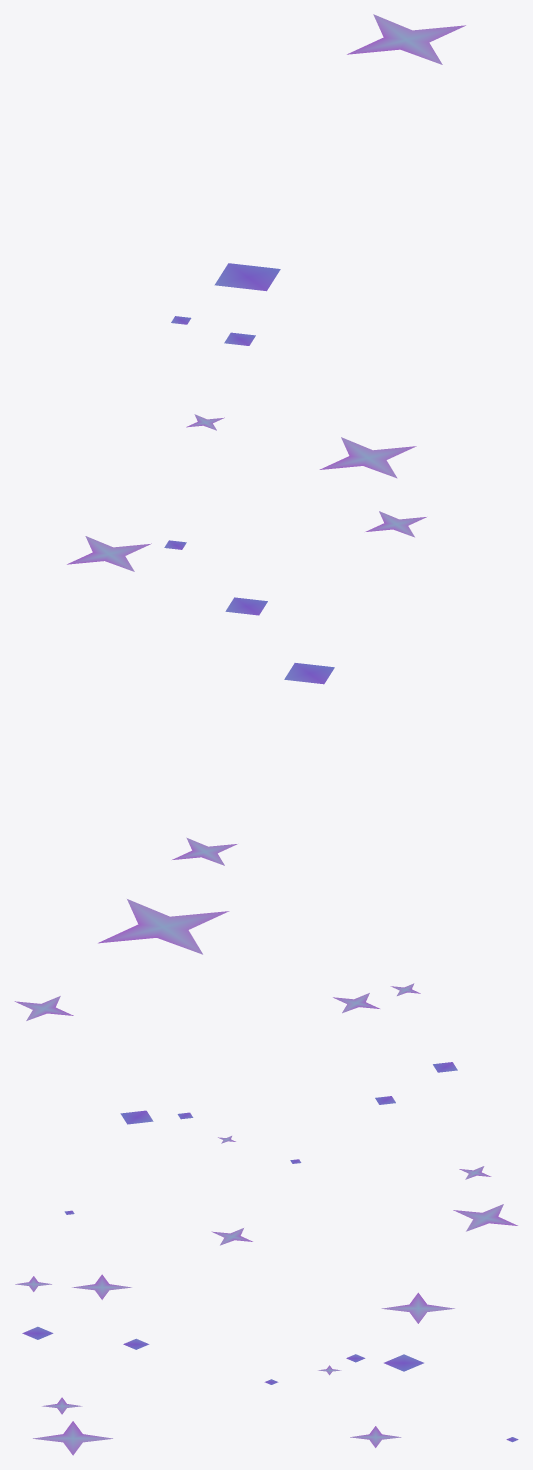
Rendered from space-stars-star-cluster_v12.glb.
3 renders of one model, top to bottom at view 1: azimuth 30°, elevation 25°; view 2: azimuth 150°, elevation 25°; view 3: azimuth 270°, elevation 25°, orthographic. The views are drawn at different scales.
Parts seen in each view (by area): view 1: Star Cluster_v12; view 2: Star Cluster_v12; view 3: Star Cluster_v12.
Part boxes in pixels (<box>): Star Cluster_v12: <box>67,14,465,954</box>; Star Cluster_v12: <box>14,983,517,1245</box>; Star Cluster_v12: <box>15,1274,518,1455</box>.
Size of the model in its own units: 0.4256 by 0.3039 by 0.5.
